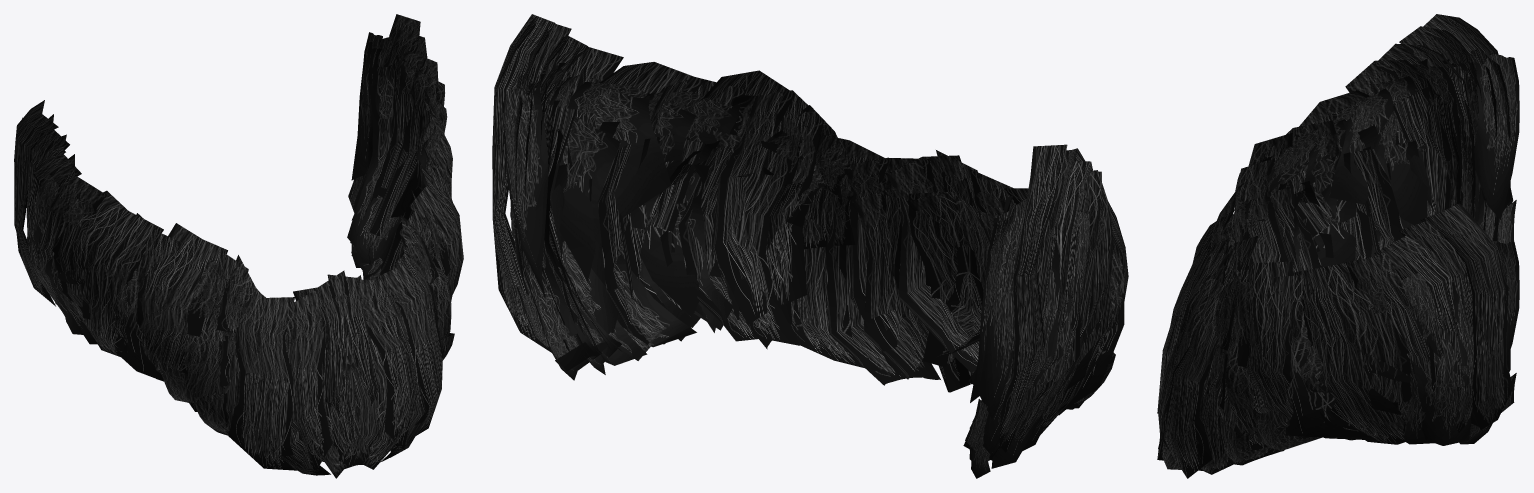
File: Beard_Mesh.fbx
The picture shows the model from 3 angles, left to right: view 1: azimuth 30°, elevation 25°; view 2: azimuth 150°, elevation 25°; view 3: azimuth 270°, elevation 25°; orthographic projection. The views are drawn at different scales.
Parts seen in each view (by area): view 1: Right.002; view 2: Right.002; view 3: Right.002.
Boxes of the visible parts, x1,y1,x2,y2 form: Right.002: (14,14,463,478); Right.002: (492,14,1128,478); Right.002: (1157,14,1519,478).
Size of the model in its own units: 16.59 by 12.78 by 12.13.
